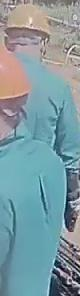gloves: (63, 160, 80, 232)
helmet: (0, 39, 31, 104), (4, 3, 51, 44)
vest: (0, 130, 65, 295), (11, 53, 79, 132)
